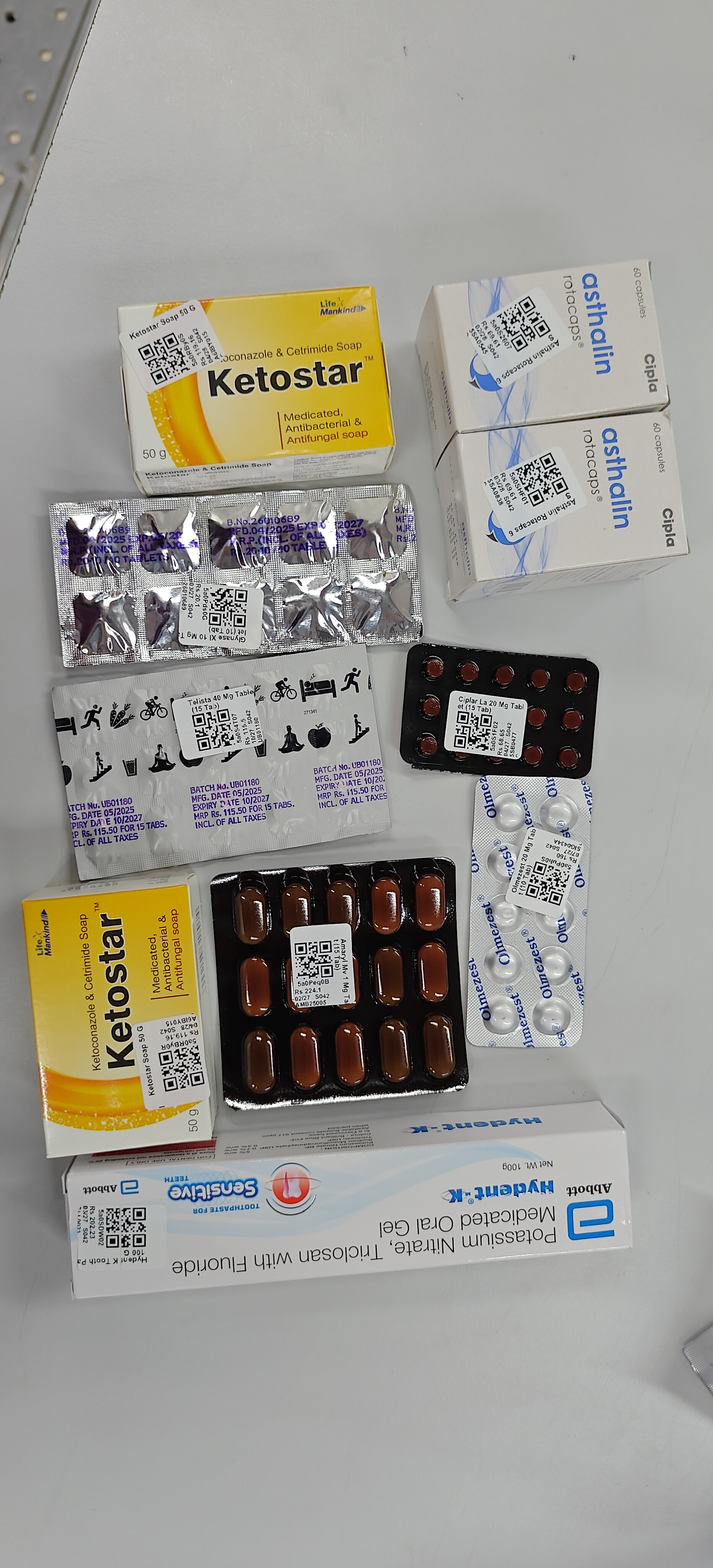qr_code: (209, 612, 611, 977), (514, 452, 568, 506), (137, 332, 192, 385), (106, 1207, 146, 1248)
